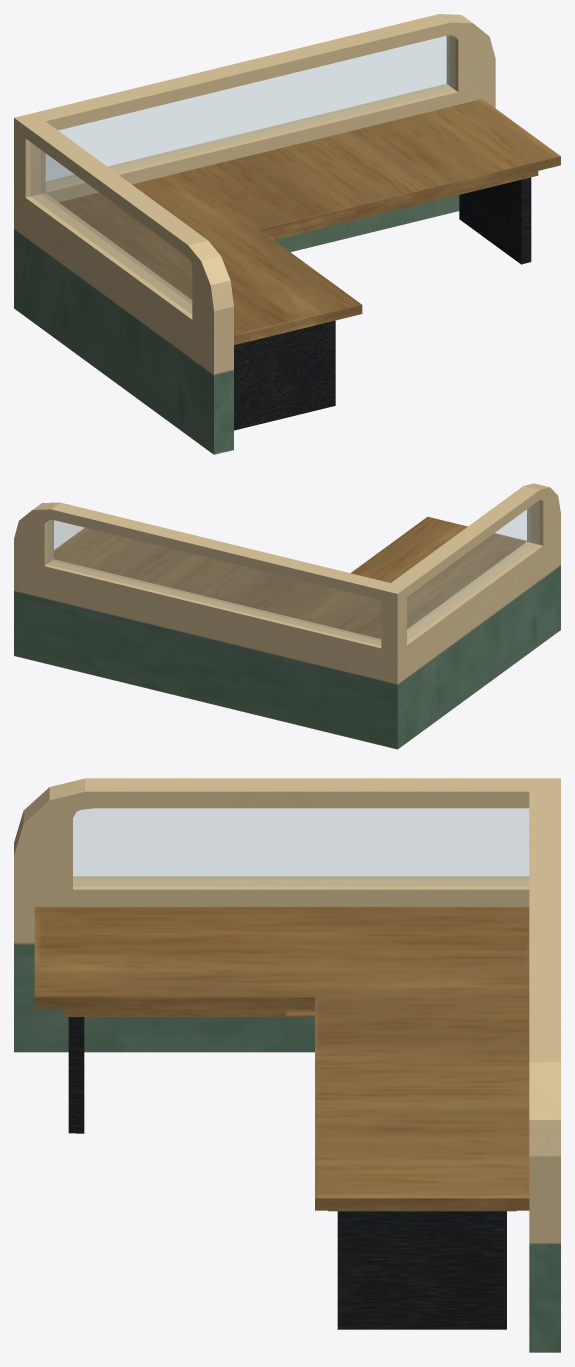
The model's file is deskSingle.fbx.
The picture shows the model from 3 angles, top to bottom: view 1: azimuth 30°, elevation 25°; view 2: azimuth 150°, elevation 25°; view 3: azimuth 270°, elevation 25°; orthographic projection. The views are drawn at different scales.
Visible parts, largest first — view 1: Desk_Single; view 2: Desk_Single; view 3: Desk_Single.
Boxes of the visible parts, <box> form: Desk_Single: <box>14,14,560,454</box>; Desk_Single: <box>14,483,560,749</box>; Desk_Single: <box>14,778,560,1352</box>.
Bounding box in the file's own units: 718 × 278 × 529.
